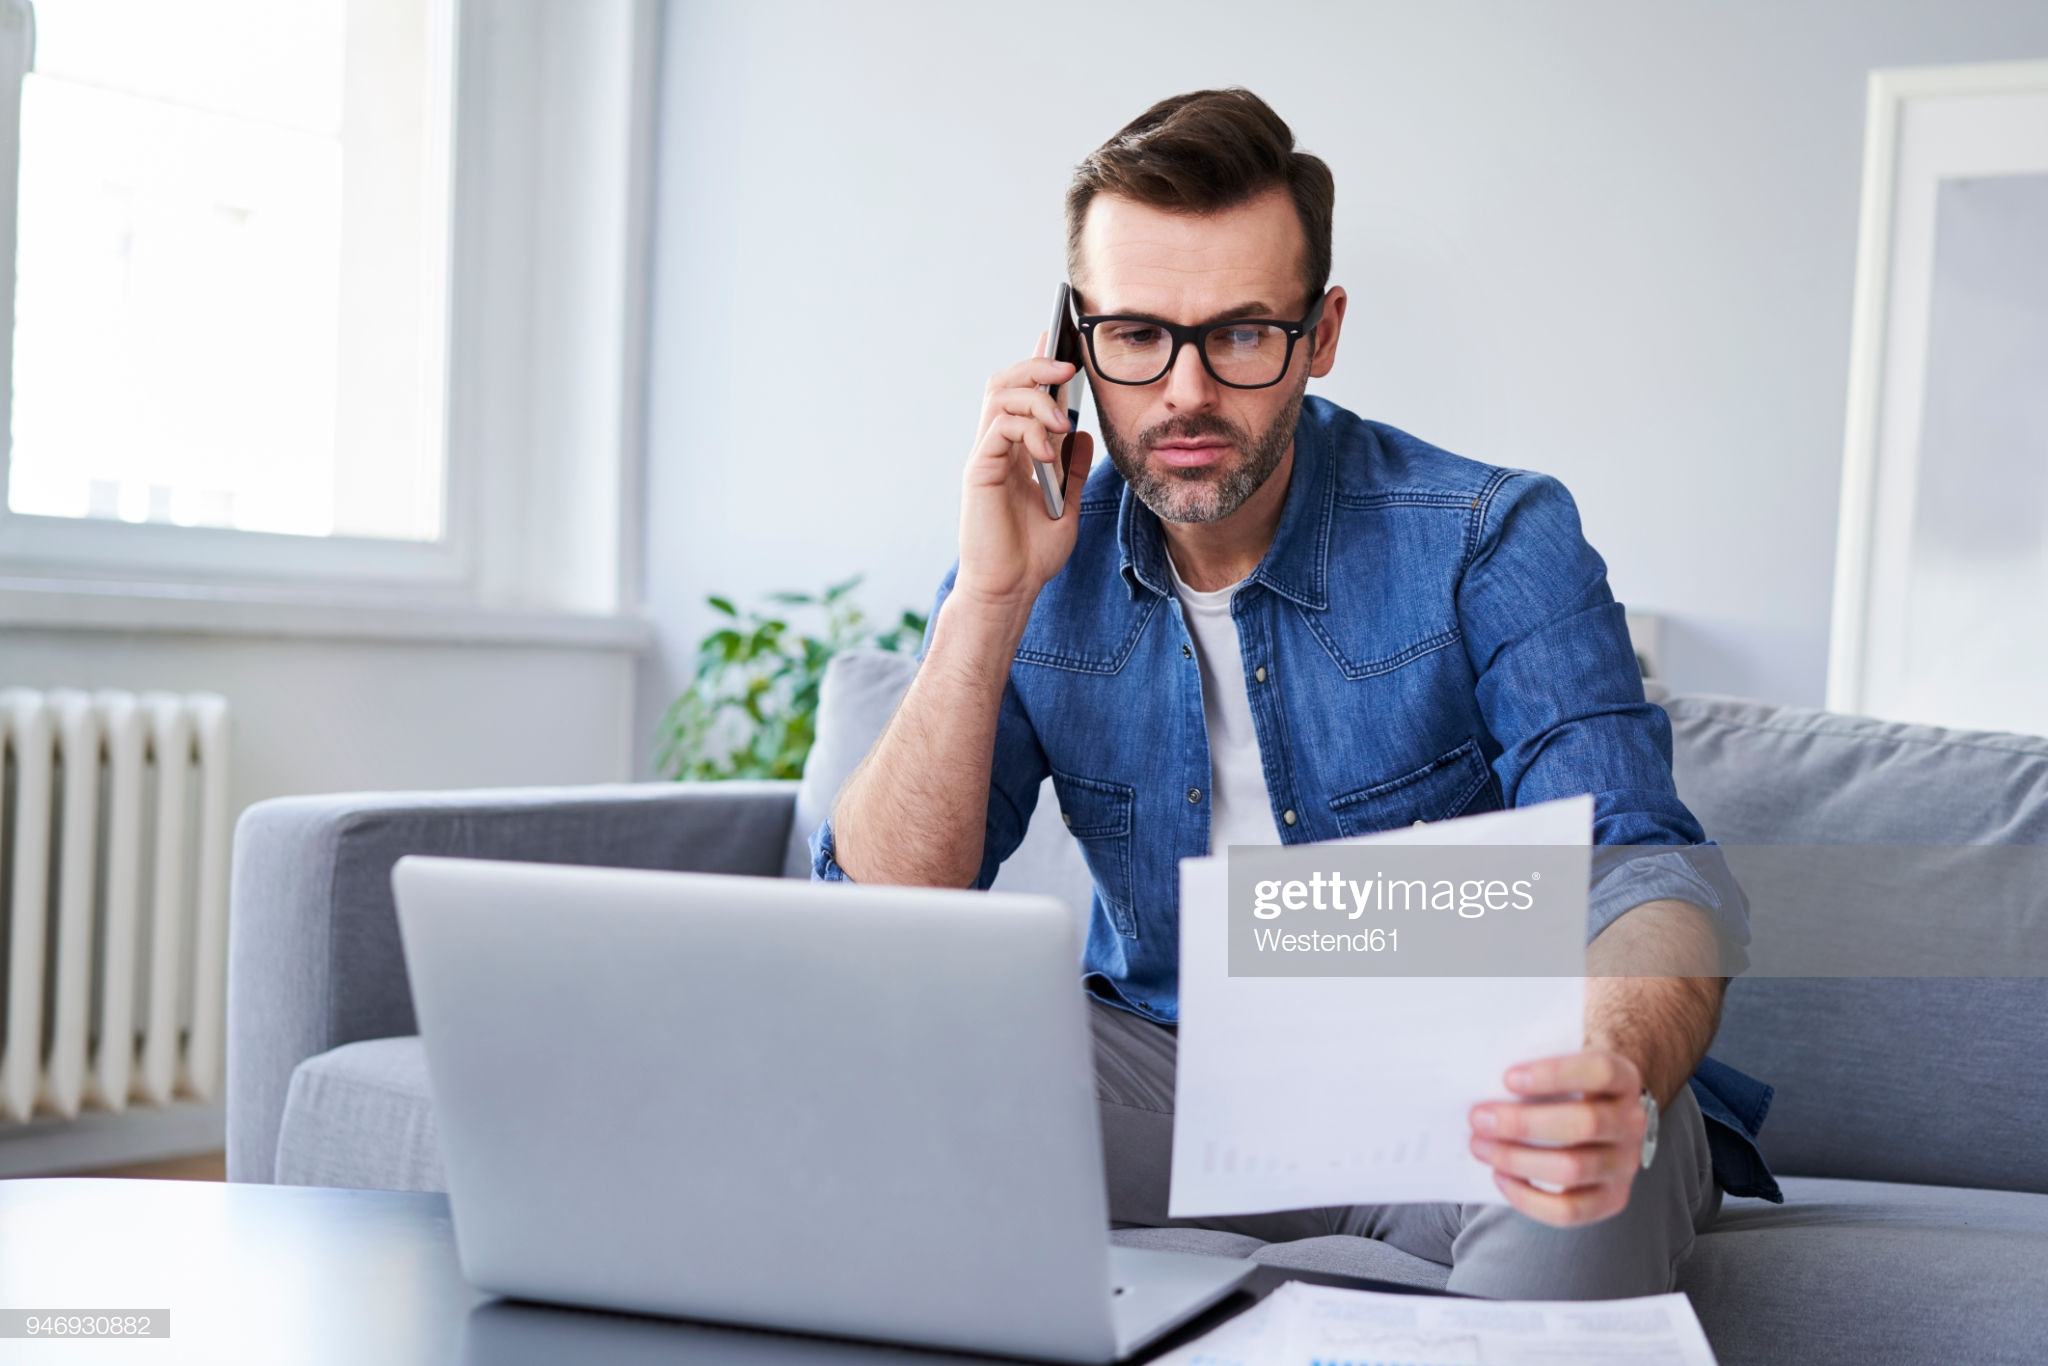phone: (1000, 277, 1108, 543)
talk: (971, 256, 1323, 601)
